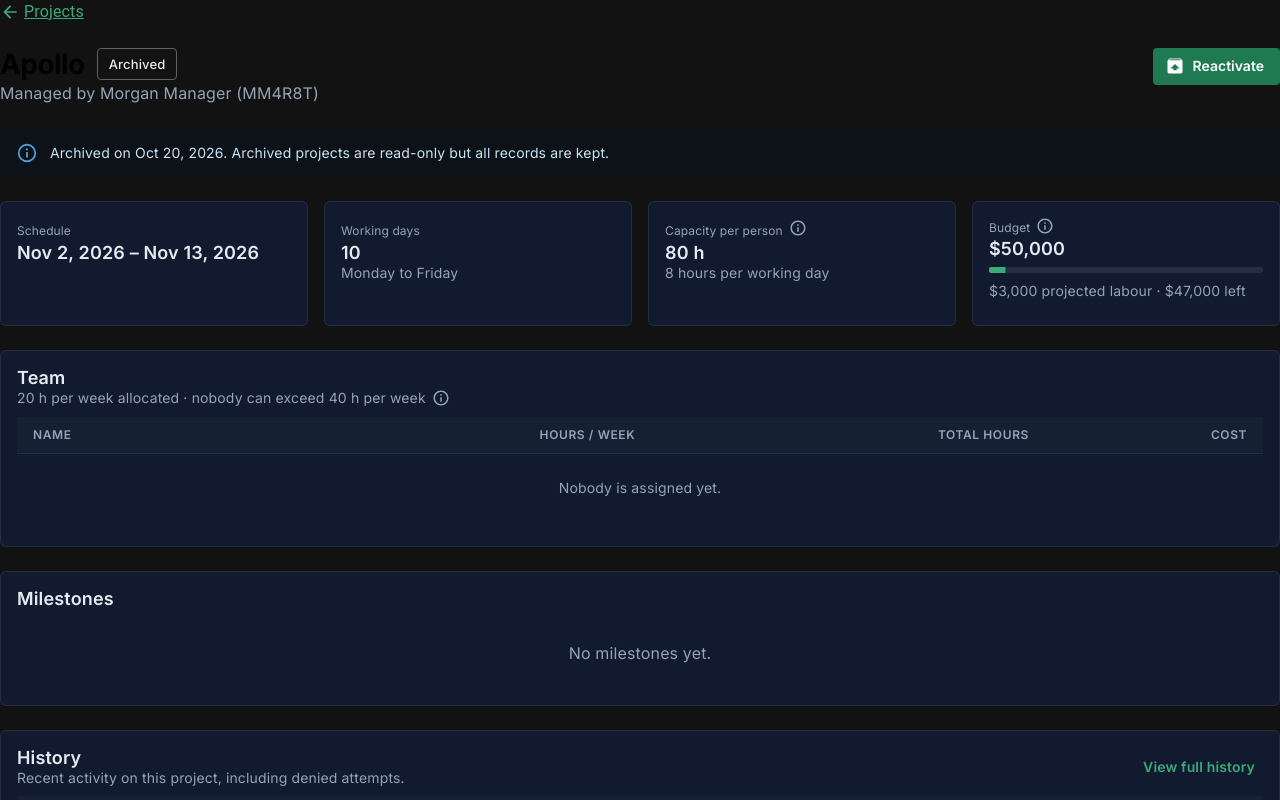
Test: ProjectDetailPage › asks for a new manager when the old one is inactive
The width and height of the screenshot is (1280, 800).
Click the button "Reactivate": click(1216, 66) [1153, 48, 1279, 84]
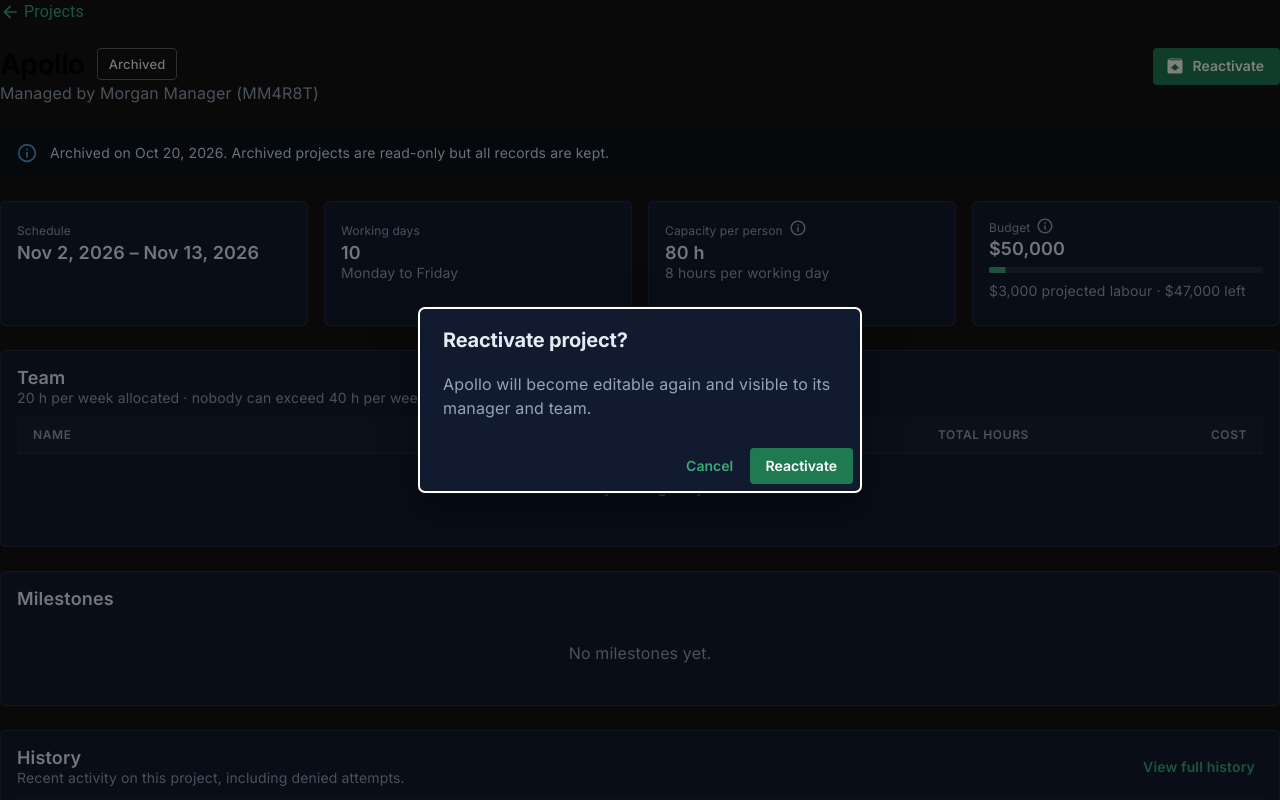
Click the button "Reactivate": click(801, 466) [750, 448, 853, 484]
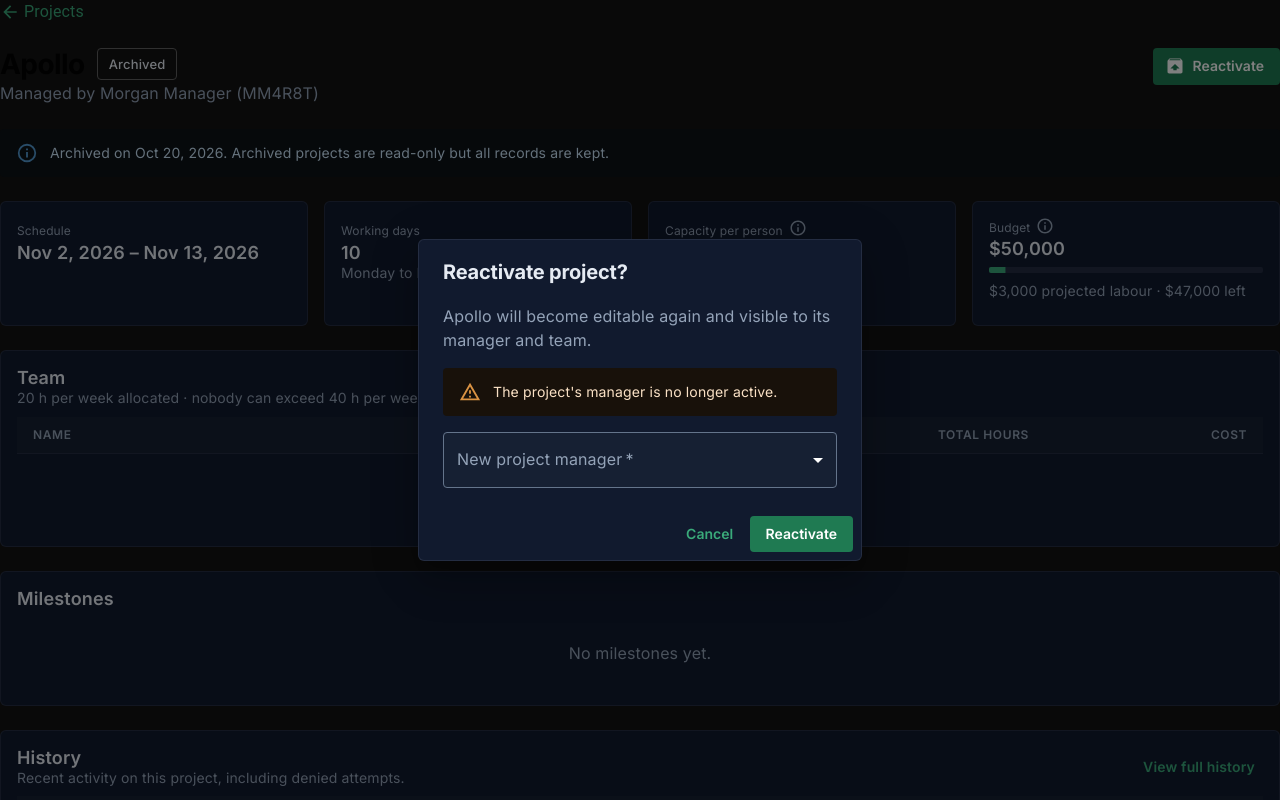
Expected: the text "The project's manager is no longer active." is shown, [493, 383, 778, 400]
Click the dropdown named "New project manager": click(640, 460) [443, 432, 837, 488]
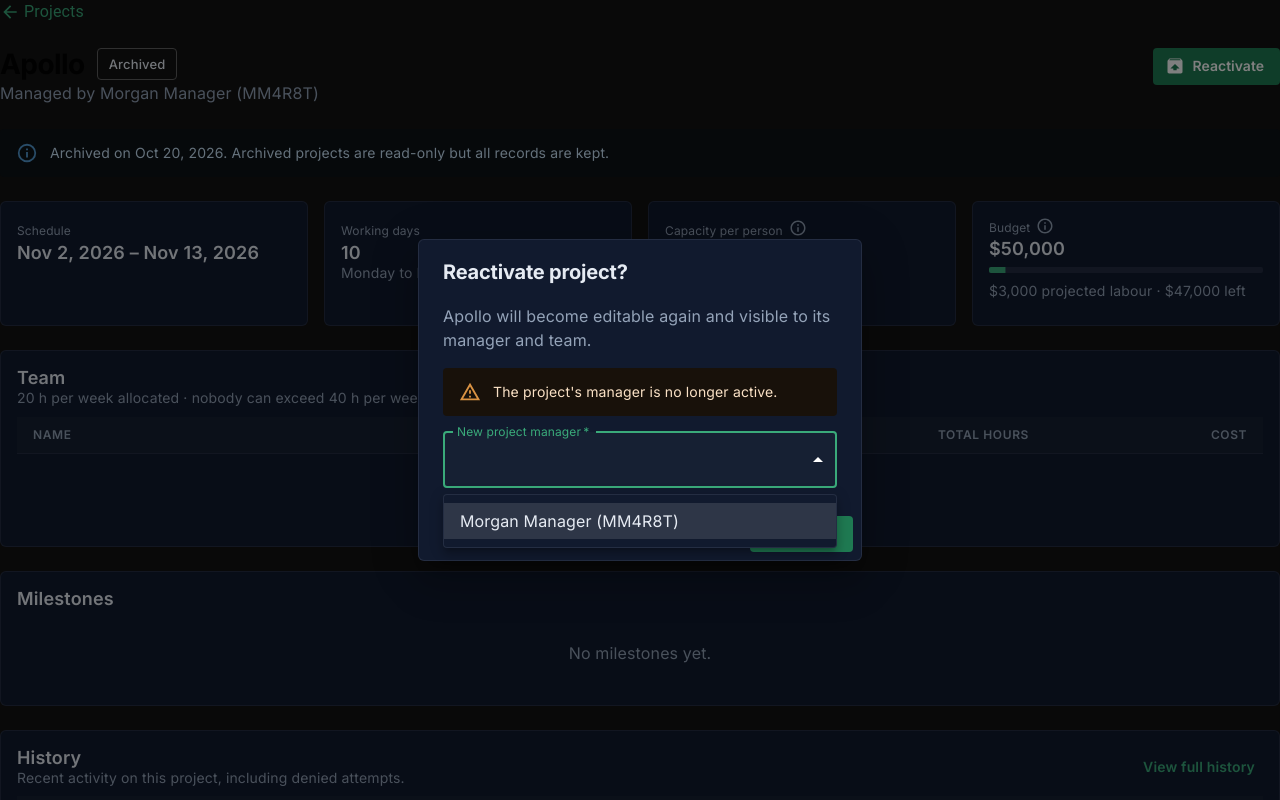
Click the option "Morgan Manager (MM4R8T)": click(640, 521) [444, 503, 836, 539]
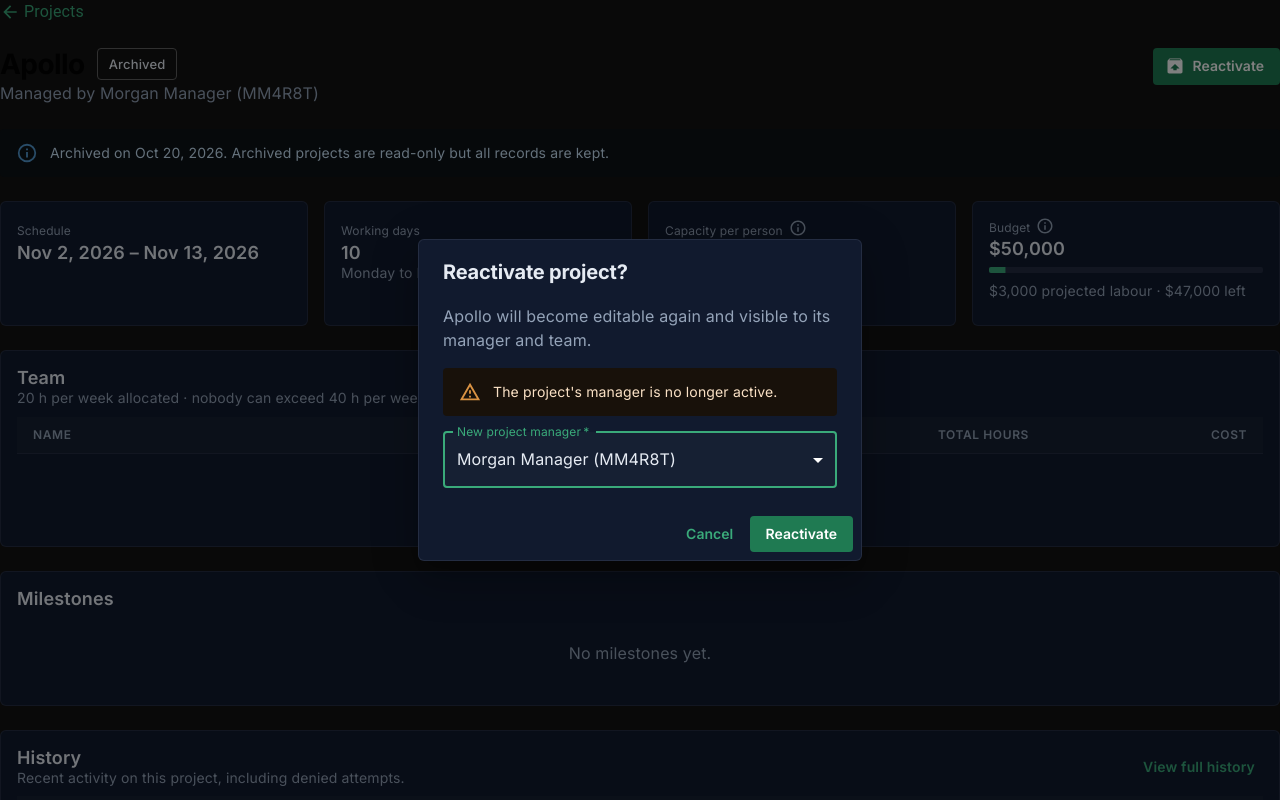
Click the button "Reactivate": click(801, 534) [750, 516, 853, 552]
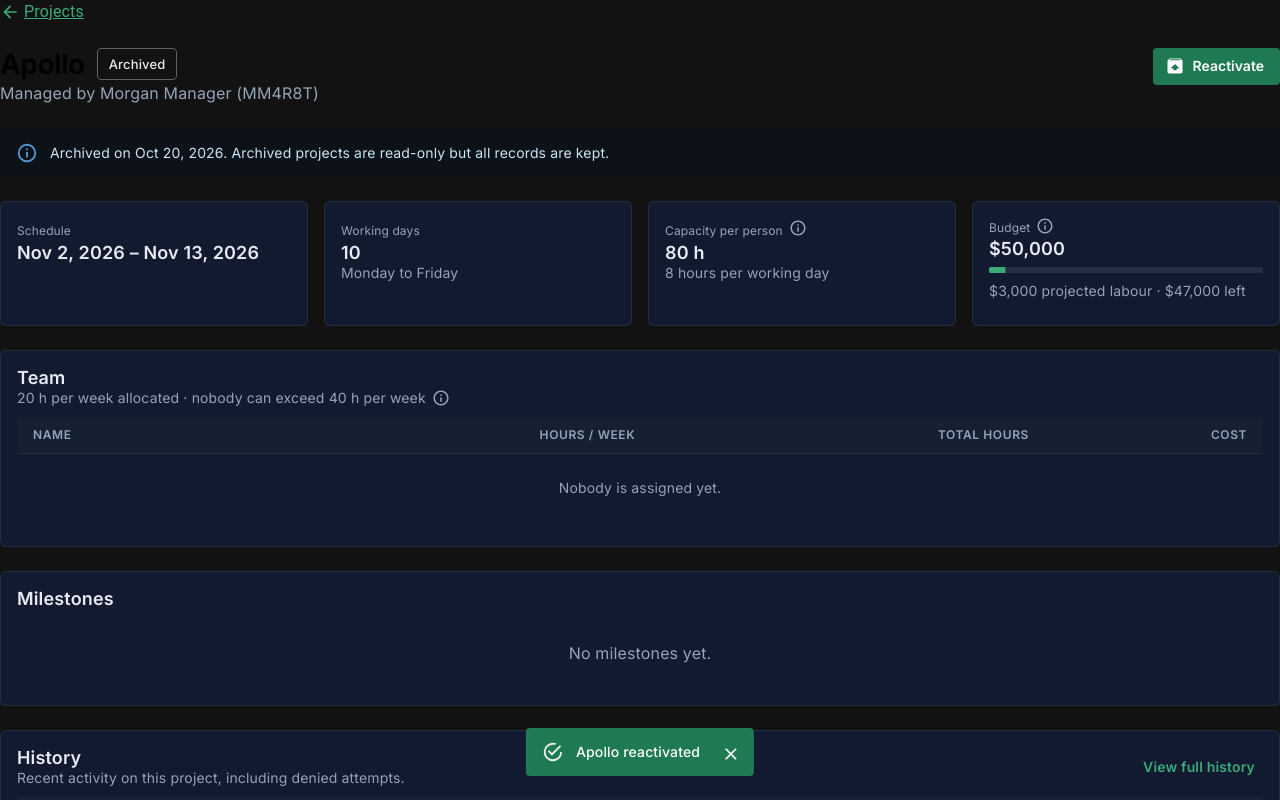
Expected: the text "Apollo reactivated" is shown, [576, 743, 700, 760]
